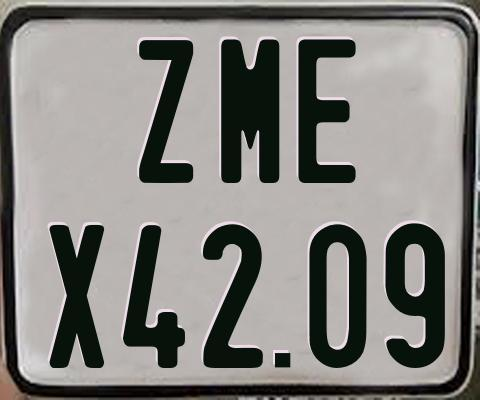0: (308, 224, 371, 371)
2: (200, 222, 260, 370)
4: (123, 224, 185, 370)
9: (385, 223, 445, 370)
E: (296, 39, 358, 184)
M: (220, 37, 280, 184)
X: (46, 223, 103, 371)
Z: (136, 40, 195, 185)
